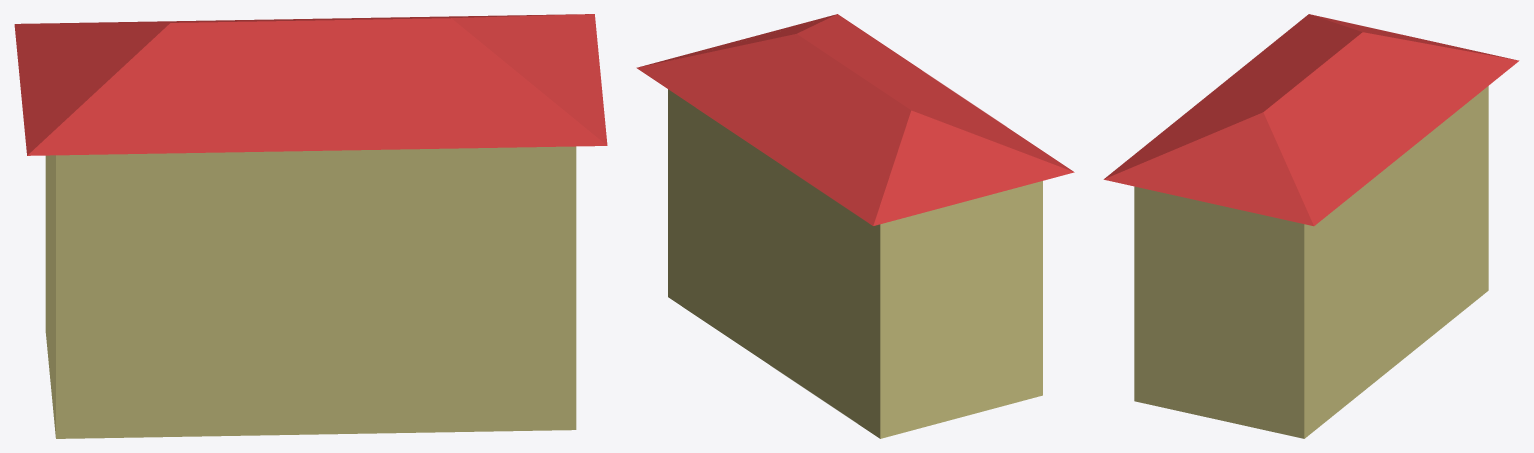
The picture shows the model from 3 angles, left to right: view 1: azimuth 30°, elevation 25°; view 2: azimuth 150°, elevation 25°; view 3: azimuth 270°, elevation 25°; orthographic projection. The views are drawn at different scales.
Visible parts, largest first — view 1: group_5, group_3, group_4; view 2: group_5, group_3, group_4; view 3: group_5, group_3, group_4.
Part boxes in pixels (left/top/right/bottom): group_5: left=45, top=146, right=576, bottom=438; group_3: left=21, top=14, right=606, bottom=155; group_4: left=14, top=14, right=607, bottom=155; group_5: left=668, top=89, right=1042, bottom=438; group_3: left=636, top=14, right=1073, bottom=225; group_4: left=639, top=14, right=1074, bottom=225; group_5: left=1134, top=86, right=1488, bottom=438; group_3: left=1104, top=14, right=1519, bottom=225; group_4: left=1104, top=14, right=1516, bottom=226.
Size of the model in its own units: 21.92 by 18.16 by 13.19.
